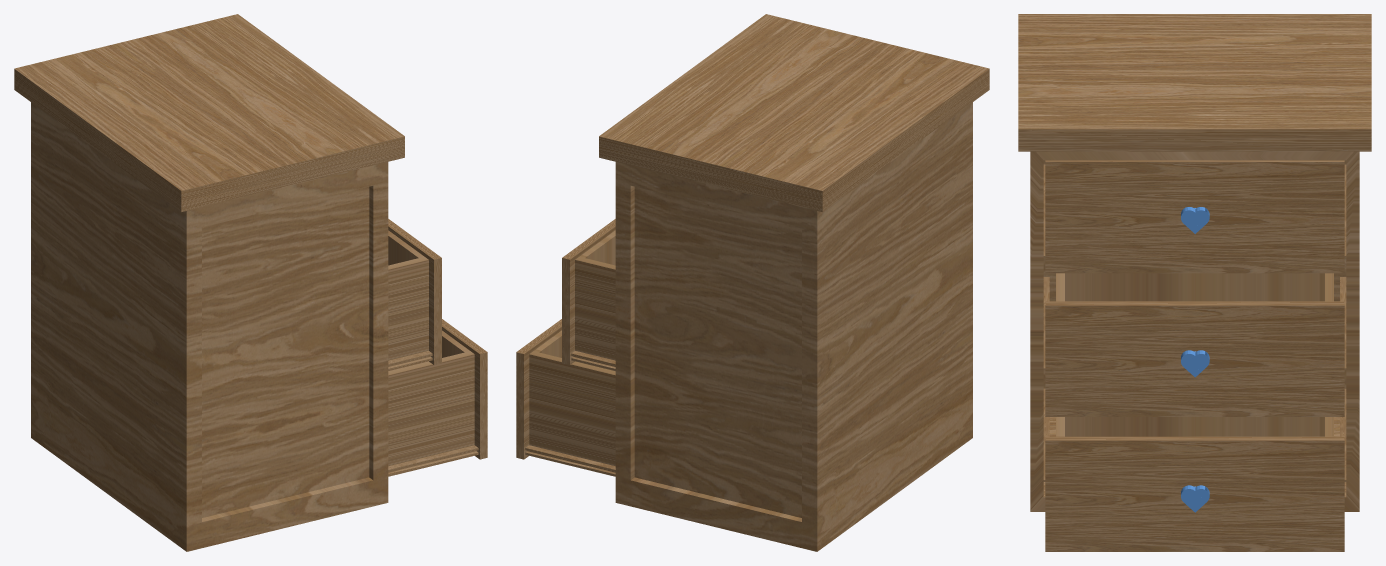
Rendered from Chiffonier.fbx.
3 renders of one model, left to right at view 1: azimuth 30°, elevation 25°; view 2: azimuth 150°, elevation 25°; view 3: azimuth 270°, elevation 25°, orthographic. The views are drawn at different scales.
Parts seen in each view (by area): view 1: 큐브; view 2: 큐브; view 3: 큐브.
Part boxes in pixels (left/top/right/bottom): 큐브: left=14, top=14, right=487, bottom=551; 큐브: left=516, top=14, right=989, bottom=551; 큐브: left=1018, top=14, right=1371, bottom=551.
Size of the model in its own units: 8.48 by 8.88 by 7.32.
